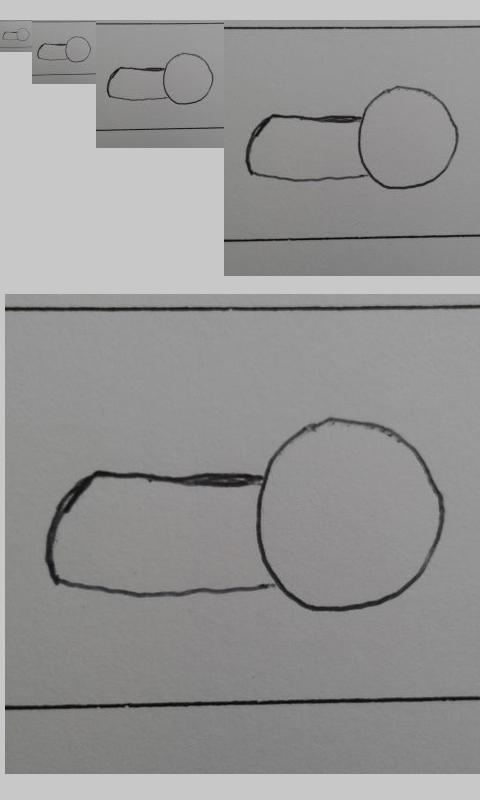switch: (43, 416, 446, 614), (245, 84, 460, 190), (106, 52, 215, 106), (36, 35, 92, 64), (2, 28, 31, 42)
